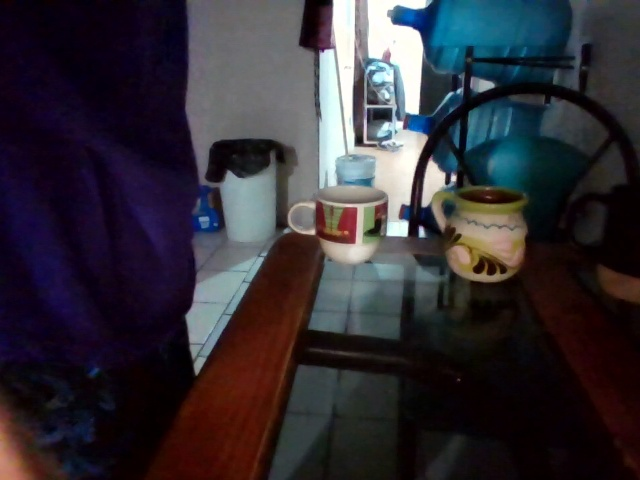taza: (439, 186, 529, 284), (288, 186, 389, 266)
